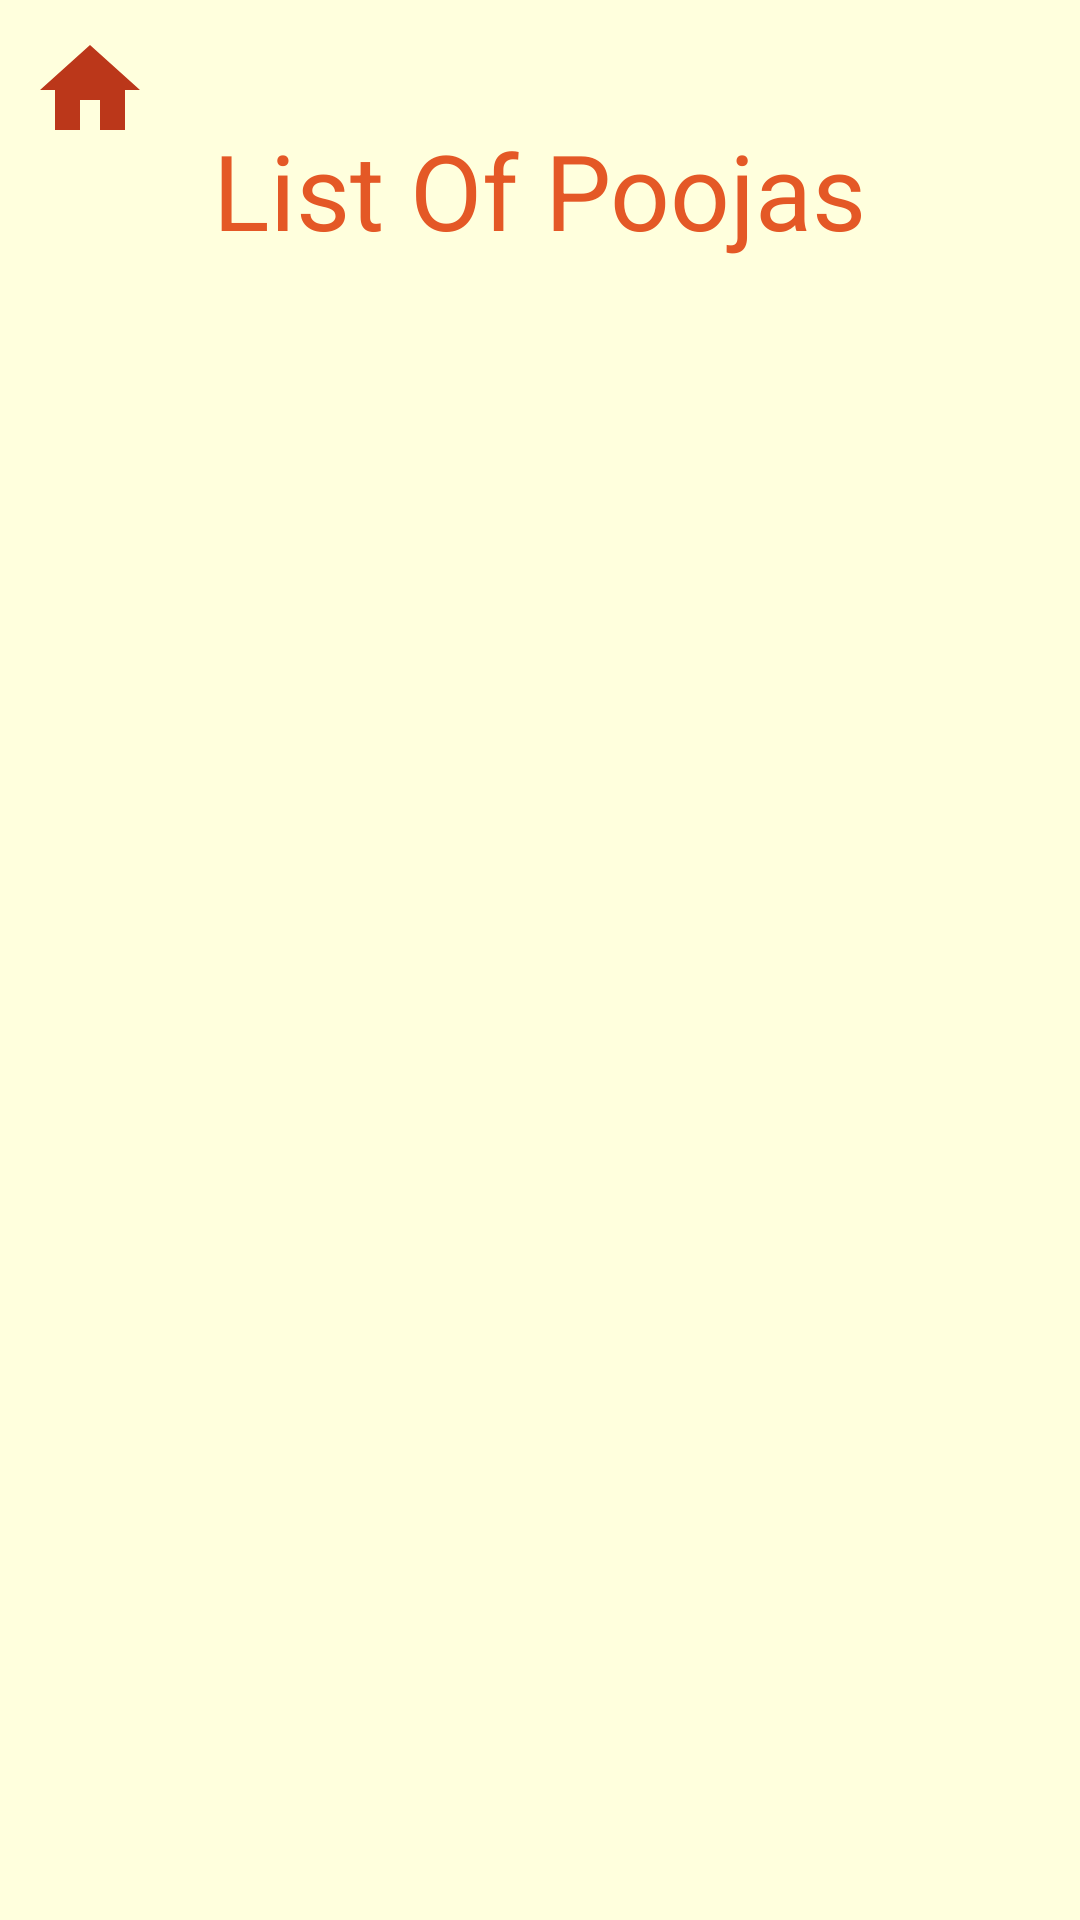

Where icons sit on this 1080x1920 app screen, as (x1, y1, x2, y2):
home: (40, 45, 140, 130)
